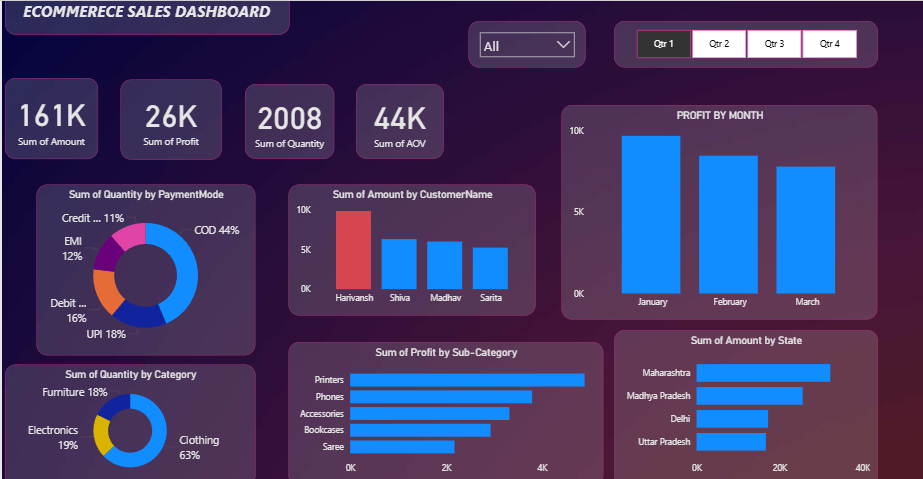

What the dashboard file says about the page in this screenshot:
{"tool":"powerbi","page":{"name":"Page 1","canvas":[1280,720],"ordinal":0},"visuals":[{"type":"textbox","box":[3.3,35,395,58.3],"z":0},{"type":"columnChart","title":"PROFIT BY MONTH ","fields":{"Category":["Orders.Order Date.Variation.Date Hierarchy.Month"],"Y":["Details.Profit"]},"box":[777.8,190.7,438.9,298.1],"z":1000},{"type":"barChart","fields":{"Category":["Details.Sub-Category"],"Y":["Details.Profit"]},"box":[398.1,520.4,437,200],"z":2000},{"type":"donutChart","fields":{"Category":["Details.Category"],"Y":["Details.Quantity"]},"box":[3.7,551.9,348.1,168.5],"z":3000},{"type":"donutChart","fields":{"Category":["Details.PaymentMode"],"Y":["Details.Quantity"]},"box":[48.1,301.9,303.7,237],"z":4000},{"type":"card","fields":{"Values":["Details.Amount"]},"box":[3.7,153.7,129.6,113],"z":5000},{"type":"card","fields":{"Values":["Details.Profit"]},"box":[164.8,155.6,140.7,111.1],"z":6000},{"type":"card","fields":{"Values":["Details.Quantity"]},"box":[337,163,124.1,103.7],"z":7000},{"type":"card","fields":{"Values":["Details.AOV"]},"box":[490.7,163,122.2,103.7],"z":8000},{"type":"barChart","fields":{"Category":["Orders.State"],"Y":["Details.Amount"]},"box":[850,503.7,366.7,216.7],"z":9000},{"type":"columnChart","fields":{"Category":["Orders.CustomerName"],"Y":["Details.Amount"]},"box":[398.3,301.7,343.3,181.7],"z":10000},{"type":"slicer","fields":{"Values":["Orders.Order Date.Variation.Date Hierarchy.Quarter"]},"box":[850,74.1,366.7,64.8],"z":11000},{"type":"slicer","fields":{"Values":["Orders.State"]},"box":[648.1,74.1,163,64.8],"z":11001}]}

Visuals, with their boxes on the page's 1280x720 design canvas (x1, y1, x2, y2). These are canvas units, not pixel positions in the 923x479 screenshot, which may show the page scaled, cropped or inside an application window:
textbox: crop(3, 35, 398, 93)
"PROFIT BY MONTH " columnChart: crop(778, 191, 1217, 489)
barChart - Details.Sub-Category x Details.Profit: crop(398, 520, 835, 720)
donutChart - Details.Category x Details.Quantity: crop(4, 552, 352, 720)
donutChart - Details.PaymentMode x Details.Quantity: crop(48, 302, 352, 539)
card - Details.Amount: crop(4, 154, 133, 267)
card - Details.Profit: crop(165, 156, 306, 267)
card - Details.Quantity: crop(337, 163, 461, 267)
card - Details.AOV: crop(491, 163, 613, 267)
barChart - Orders.State x Details.Amount: crop(850, 504, 1217, 720)
columnChart - Orders.CustomerName x Details.Amount: crop(398, 302, 742, 483)
slicer - Orders.Order Date.Variation.Date Hierarchy.Quarter: crop(850, 74, 1217, 139)
slicer - Orders.State: crop(648, 74, 811, 139)
